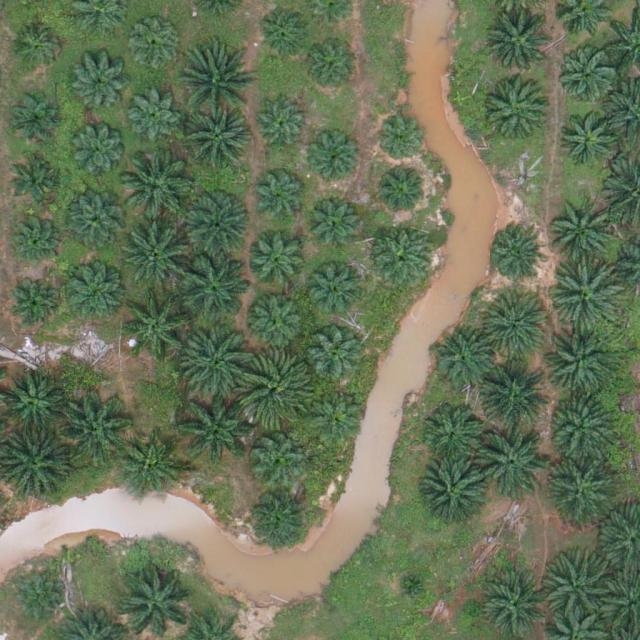Healthy: (121, 565, 192, 636), (544, 331, 615, 402), (480, 291, 551, 362), (550, 390, 620, 461), (545, 454, 615, 525), (475, 427, 545, 498), (417, 460, 488, 530), (551, 191, 621, 262), (554, 262, 624, 333), (480, 358, 550, 429), (486, 10, 556, 81), (240, 354, 311, 424), (183, 49, 253, 120), (182, 107, 252, 178), (179, 189, 249, 260), (181, 250, 252, 320), (186, 330, 256, 401), (124, 291, 194, 362), (545, 547, 615, 617), (179, 393, 249, 463), (61, 393, 131, 463), (124, 223, 194, 293), (121, 153, 191, 223), (484, 577, 547, 640), (557, 106, 620, 169), (247, 290, 310, 353), (64, 195, 127, 258), (2, 371, 65, 434), (422, 404, 484, 467), (247, 488, 310, 550), (120, 439, 183, 501), (555, 46, 617, 109), (488, 78, 550, 141), (250, 230, 312, 293), (371, 224, 433, 287), (304, 262, 366, 325), (434, 329, 496, 392), (64, 261, 126, 323), (250, 430, 305, 485), (10, 571, 65, 626), (488, 224, 543, 279), (257, 6, 312, 61), (302, 39, 357, 94), (308, 134, 363, 189), (375, 163, 430, 218), (311, 389, 366, 444), (309, 332, 364, 387), (254, 170, 309, 225), (72, 61, 127, 116), (72, 124, 127, 179), (9, 279, 64, 334), (7, 211, 62, 266), (12, 150, 67, 205), (7, 89, 62, 144), (10, 19, 65, 74), (128, 19, 183, 74), (127, 90, 182, 145), (253, 99, 307, 154), (306, 194, 360, 249)
Small: (377, 117, 424, 165), (396, 569, 427, 601)
